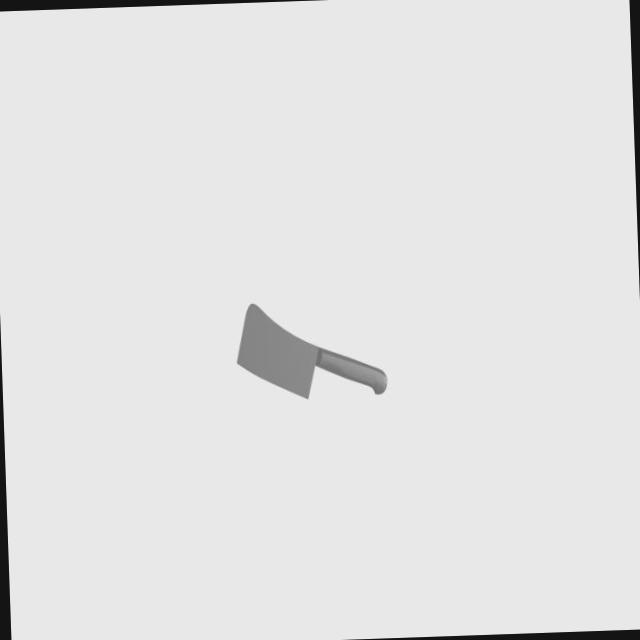knife: (314, 344, 386, 396)
